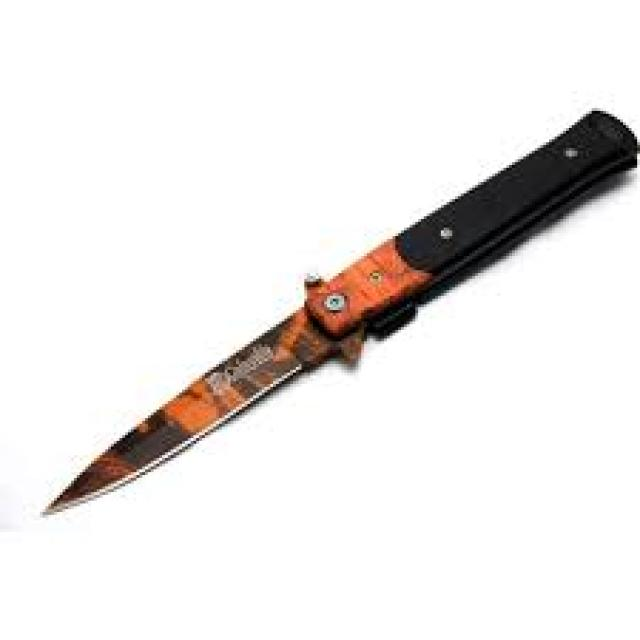knife: (28, 96, 640, 523)
